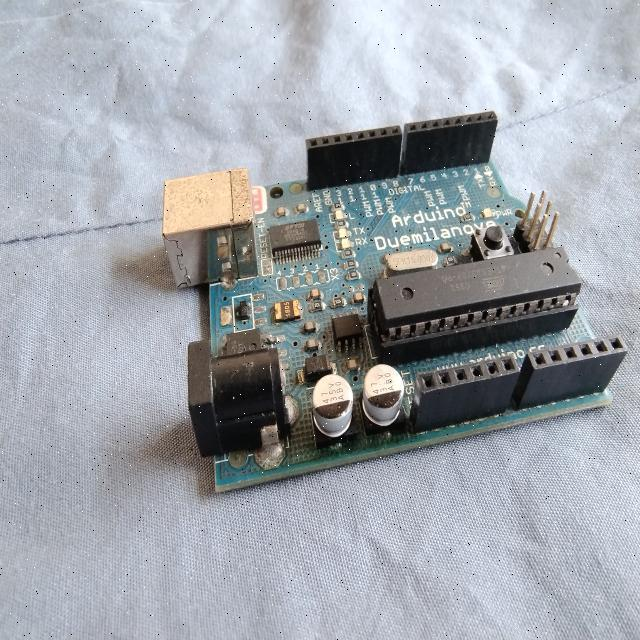arduino: (160, 110, 632, 508)
